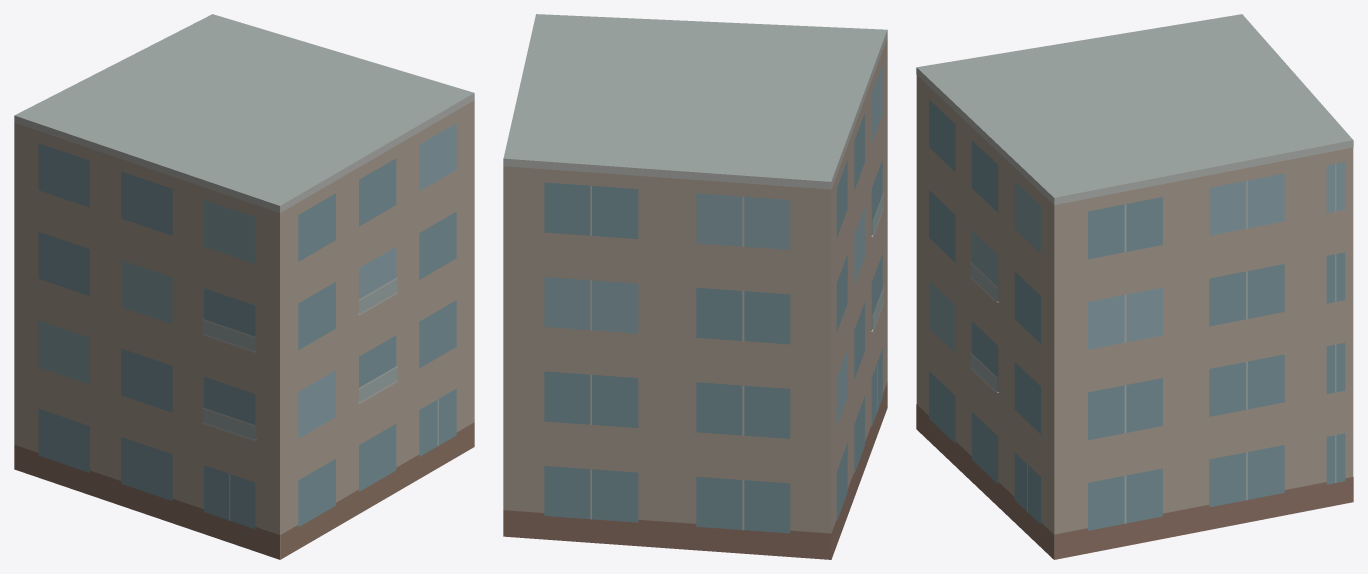
File: survey-upis-33020369.glb
3 renders of one model, left to right at view 1: azimuth 30°, elevation 25°; view 2: azimuth 150°, elevation 25°; view 3: azimuth 270°, elevation 25°, orthographic. The views are drawn at different scales.
Parts seen in each view (by area): view 1: survey-upis-33020369.tmp; view 2: survey-upis-33020369.tmp; view 3: survey-upis-33020369.tmp.
Boxes of the visible parts, x1=… form: survey-upis-33020369.tmp: x1=14, y1=14, x2=474, y2=559; survey-upis-33020369.tmp: x1=503, y1=14, x2=887, y2=559; survey-upis-33020369.tmp: x1=916, y1=14, x2=1353, y2=559.
Size of the model in its own units: 13.19 by 12.1 by 13.25.
